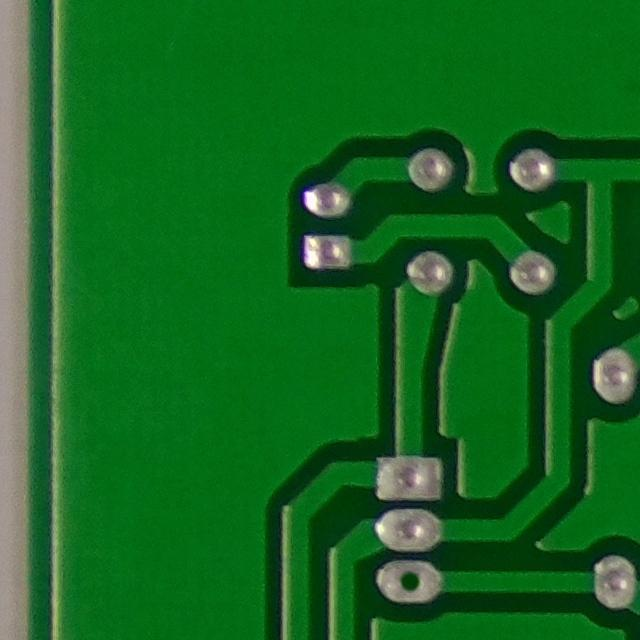missing_hole: (378, 555, 444, 617)
